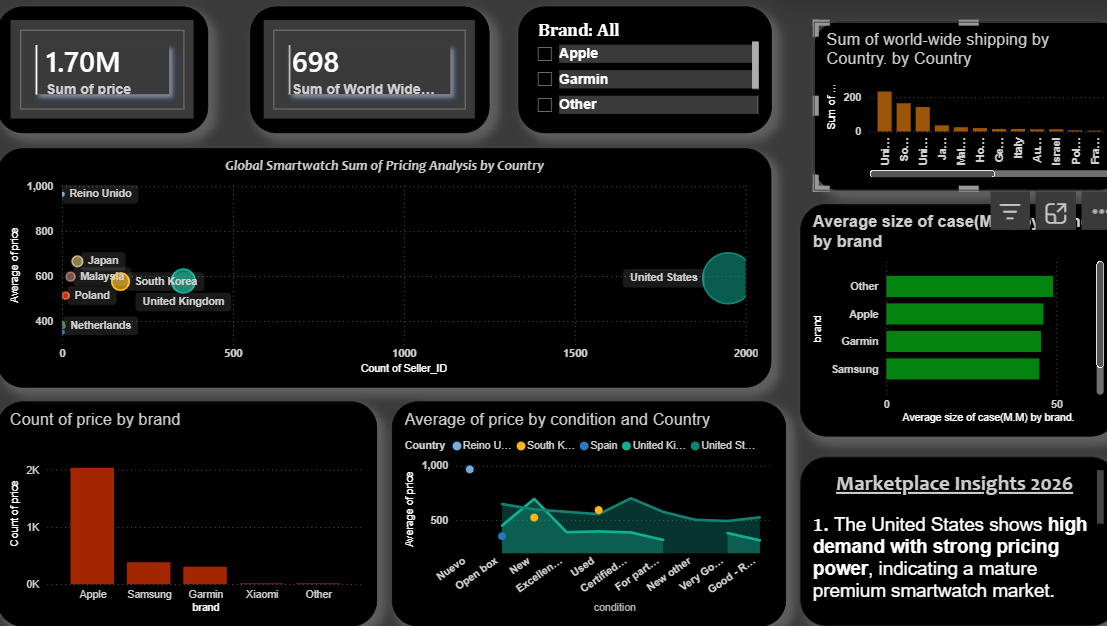

What the dashboard file says about the page in this screenshot:
{"tool":"powerbi","page":{"name":"Page 1","canvas":[1280,720],"ordinal":0},"visuals":[{"type":"lineStackedColumnComboChart","fields":{"Y":["CountNonNull(Global_Smartwatch_Marketplace_Insights_2026.price)"],"Category":["Global_Smartwatch_Marketplace_Insights_2026.brand"]},"box":[0,464,432,256],"z":0},{"type":"textbox","box":[912,528,360,192],"z":1000},{"type":"scatterChart","title":"Global Smartwatch Sum of Pricing Analysis by Country","fields":{"Y":["Avg(Global_Smartwatch_Marketplace_Insights_2026.price)"],"X":["Global_Smartwatch_Marketplace_Insights_2026.Seller_ID"],"Series":["Global_Smartwatch_Marketplace_Insights_2026.Country"],"Size":["Global_Smartwatch_Marketplace_Insights_2026.Seller_ID"]},"box":[0,176,880,272],"z":2000},{"type":"areaChart","fields":{"Category":["Global_Smartwatch_Marketplace_Insights_2026.condition"],"Y":["Avg(Global_Smartwatch_Marketplace_Insights_2026.price)"],"Series":["Global_Smartwatch_Marketplace_Insights_2026.Country"]},"box":[448,464,448,256],"z":3000},{"type":"barChart","fields":{"Category":["Global_Smartwatch_Marketplace_Insights_2026.brand"],"Y":["Avg(Global_Smartwatch_Marketplace_Insights_2026.Case_Size_mm)"]},"box":[912,240,360,264],"z":4000},{"type":"columnChart","fields":{"Y":["Sum(Global_Smartwatch_Marketplace_Insights_2026.Is_Worldwide_Shipping)"],"Category":["Global_Smartwatch_Marketplace_Insights_2026.Country"]},"box":[928,32,352,192],"z":5000},{"type":"cardVisual","fields":{"Data":["Sum(Global_Smartwatch_Marketplace_Insights_2026.price)"]},"box":[0,16,240,144],"z":6000},{"type":"cardVisual","fields":{"Data":["Sum(Global_Smartwatch_Marketplace_Insights_2026.Is_Worldwide_Shipping)"]},"box":[288,16,272,144],"z":7000},{"type":"slicer","fields":{"Values":["Global_Smartwatch_Marketplace_Insights_2026.brand"]},"box":[592,16,288,144],"z":8000}]}

Visuals, with their boxes in screenshot pixels (x1, y1, x2, y2), scaled from the page's 1280x720 canvas onto the 1107x626 screenshot:
lineStackedColumnComboChart - CountNonNull(Global_Smartwatch_Marketplace_Insights_2026.price) x Global_Smartwatch_Marketplace_Insights_2026.brand: x1=0 y1=403 x2=374 y2=625
textbox: x1=789 y1=459 x2=1100 y2=625
"Global Smartwatch Sum of Pricing Analysis by Country" scatterChart: x1=0 y1=153 x2=761 y2=390
areaChart - Global_Smartwatch_Marketplace_Insights_2026.condition x Avg(Global_Smartwatch_Marketplace_Insights_2026.price): x1=387 y1=403 x2=775 y2=625
barChart - Global_Smartwatch_Marketplace_Insights_2026.brand x Avg(Global_Smartwatch_Marketplace_Insights_2026.Case_Size_mm): x1=789 y1=209 x2=1100 y2=438
columnChart - Sum(Global_Smartwatch_Marketplace_Insights_2026.Is_Worldwide_Shipping) x Global_Smartwatch_Marketplace_Insights_2026.Country: x1=803 y1=28 x2=1106 y2=195
cardVisual - Sum(Global_Smartwatch_Marketplace_Insights_2026.price): x1=0 y1=14 x2=208 y2=139
cardVisual - Sum(Global_Smartwatch_Marketplace_Insights_2026.Is_Worldwide_Shipping): x1=249 y1=14 x2=484 y2=139
slicer - Global_Smartwatch_Marketplace_Insights_2026.brand: x1=512 y1=14 x2=761 y2=139
